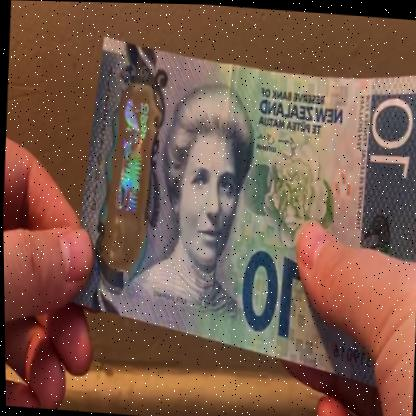10B: (101, 89, 154, 255)
